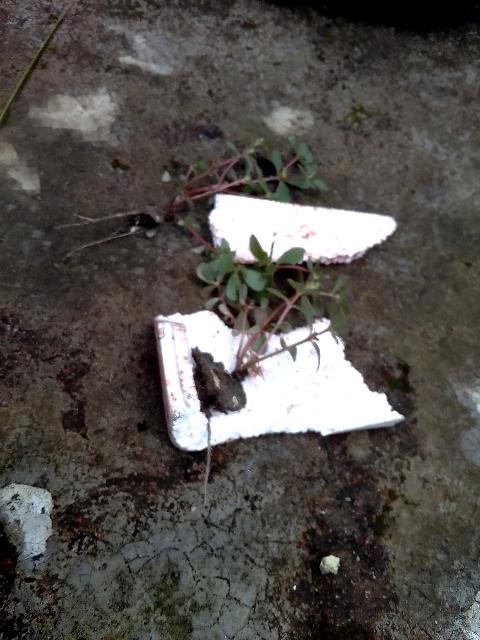cocksheet: (148, 273, 413, 459), (198, 185, 385, 288)
